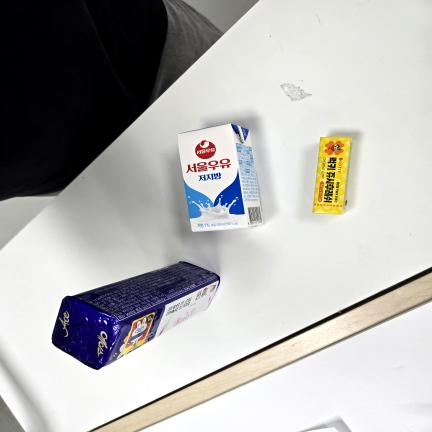cracker_ace: (52, 262, 220, 370)
gum_yellow: (313, 137, 352, 214)
milk_blue: (178, 123, 263, 232)
